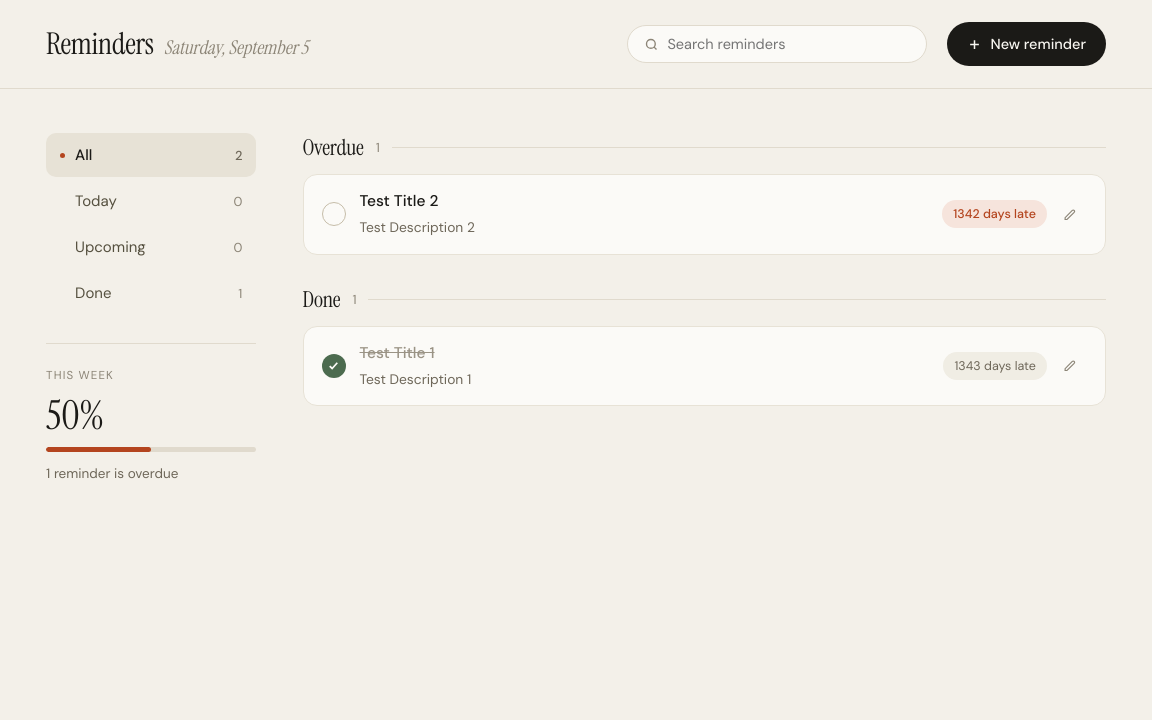
Test: RemindersList › keeps the sheet open and reports a rejected save
Click the button "New reminder" at (1027, 44), box [947,22,1106,66]
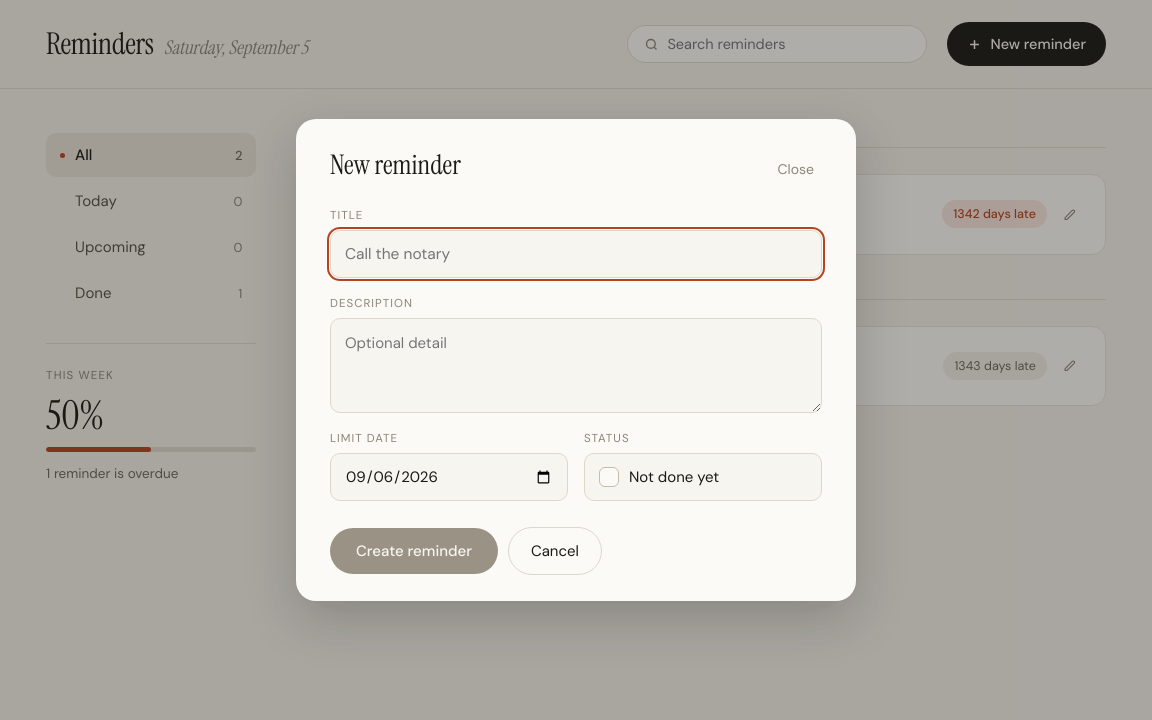
Type "Buy milk" into the field with test id "title" at (576, 254), box [330,230,822,278]
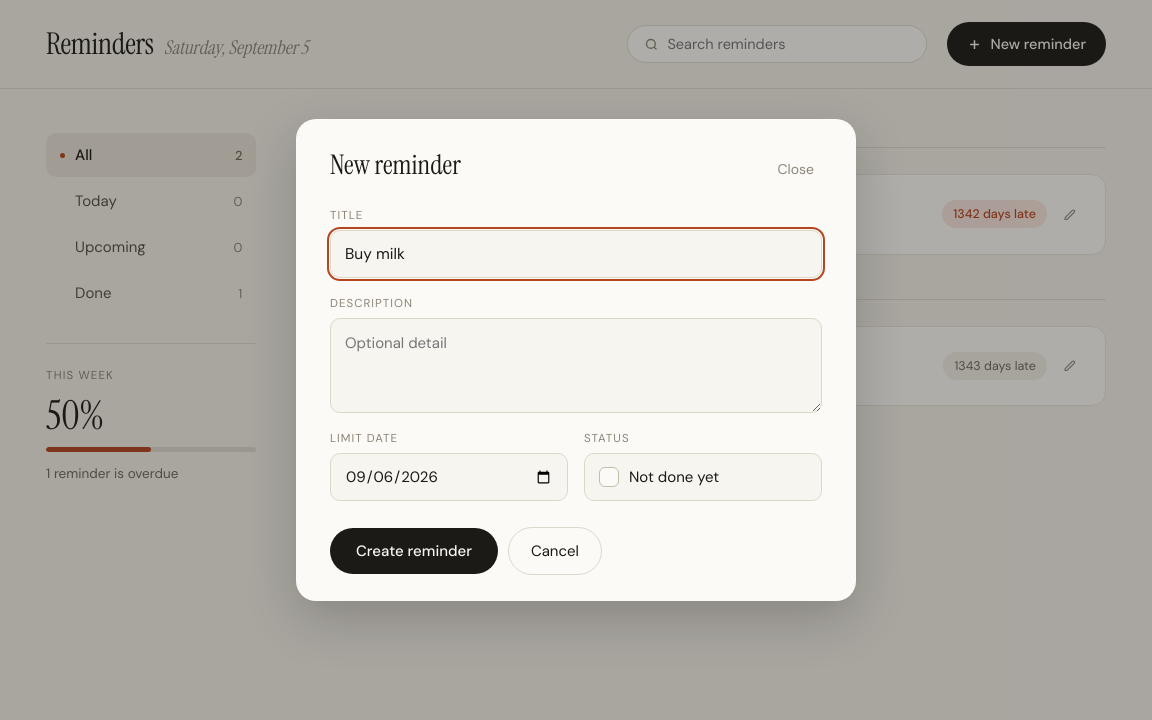
Click the button with test id "save-button" at (414, 551), box [330,528,498,574]
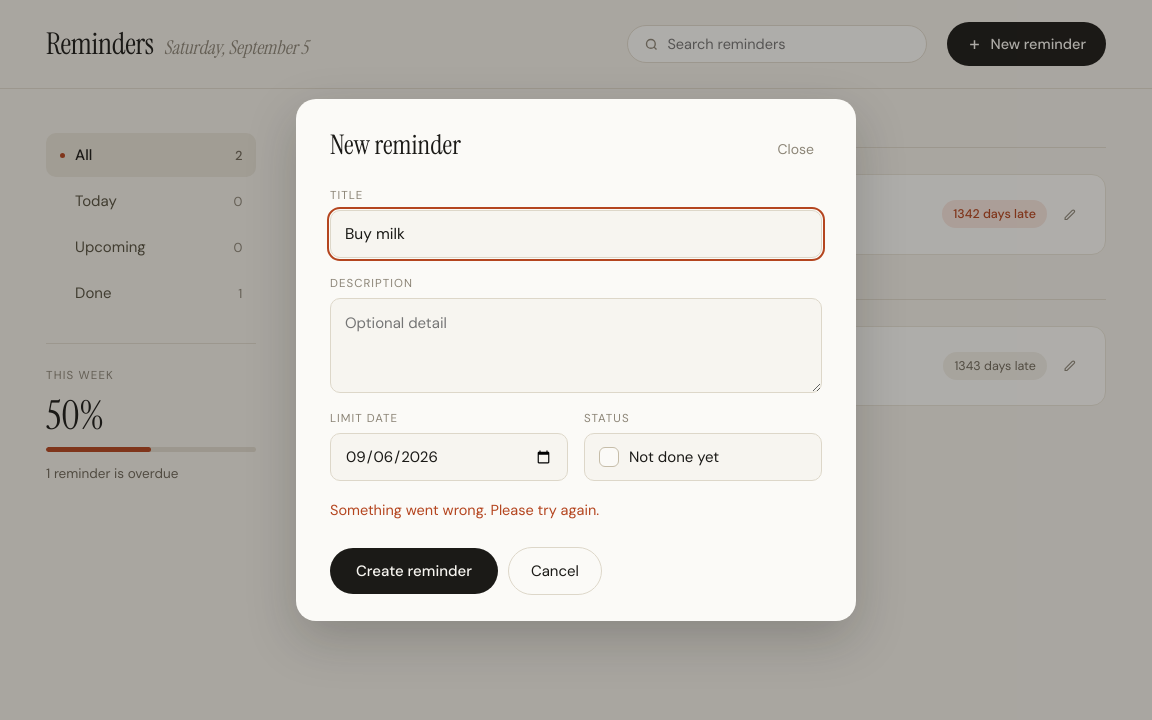
Check: the dialog is shown, box [296,98,856,622]
Check: the text "Something went wrong. Please try again." is shown, box [330,501,599,519]
